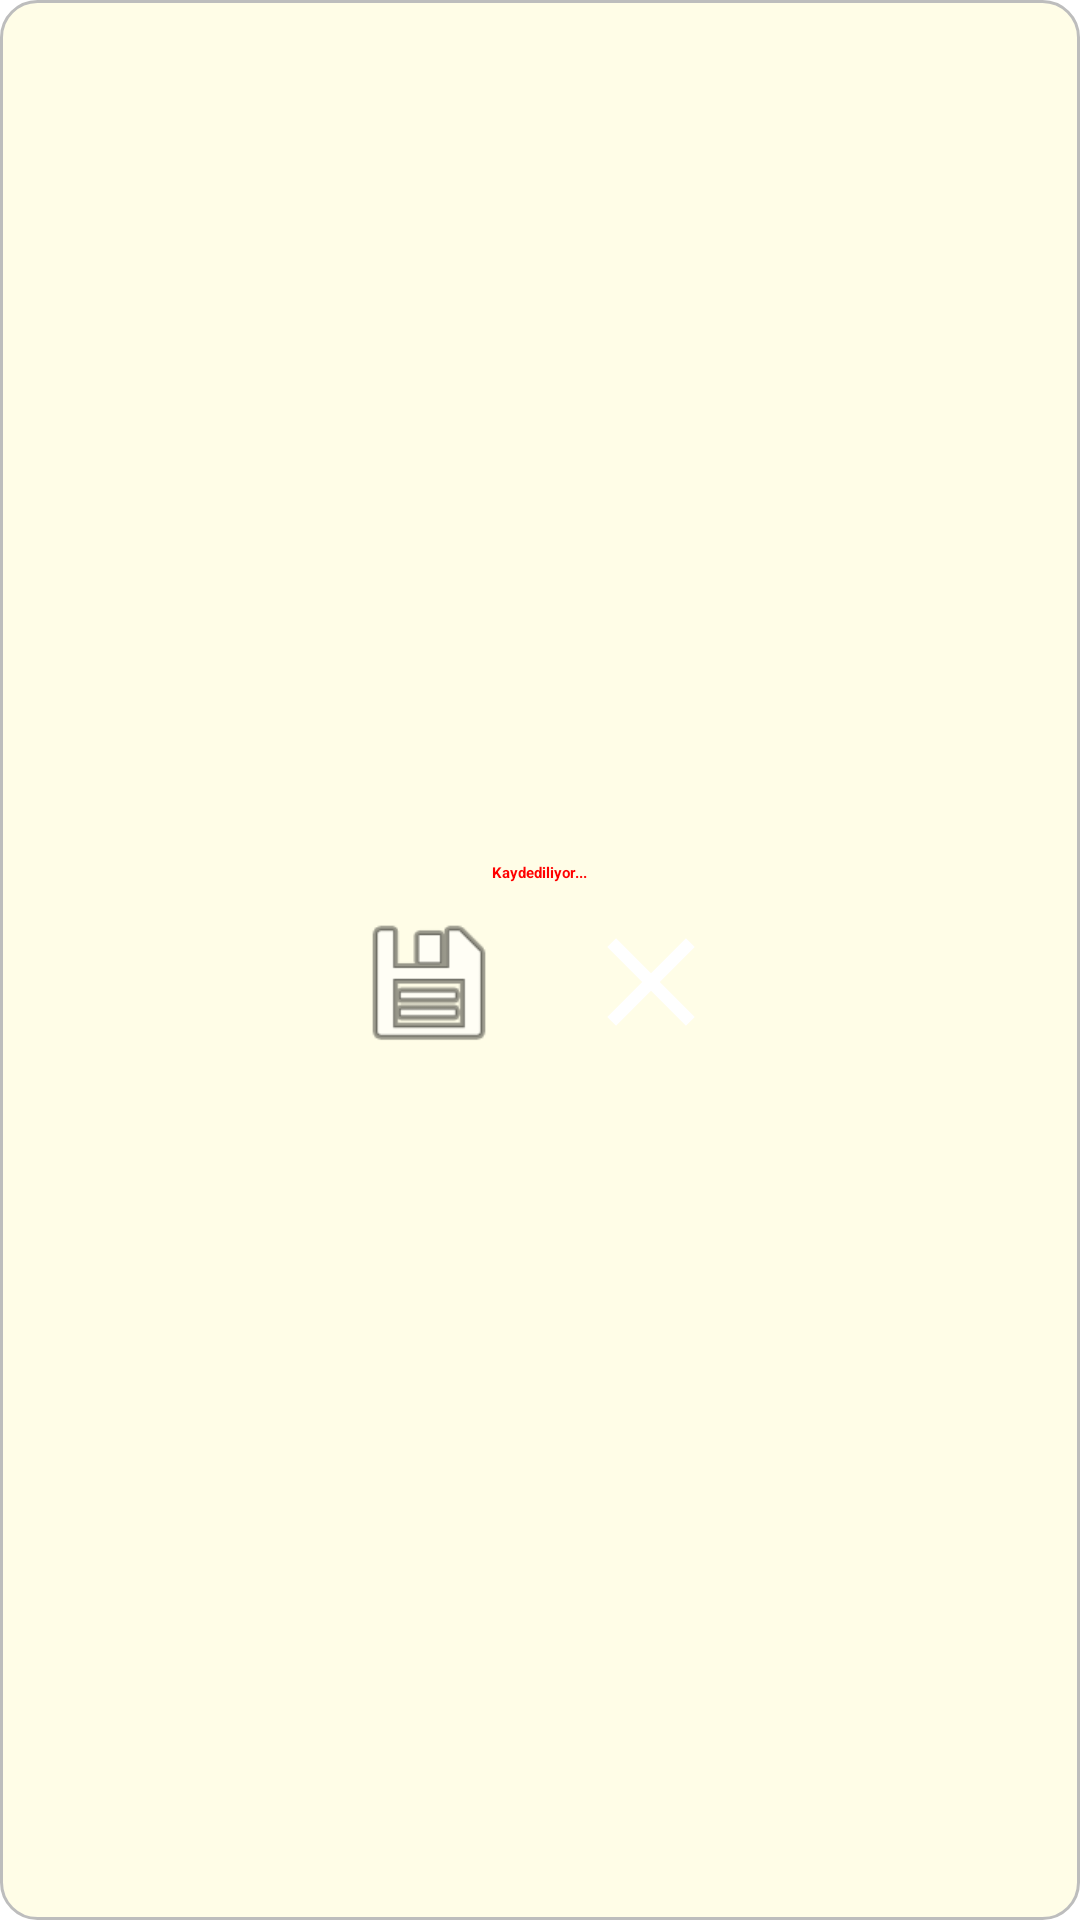

Icons on this 1080 × 1920 Android screen, each with the point to tap as (x,y):
Kaydı Durdur ve Kaydet: (429,982)
